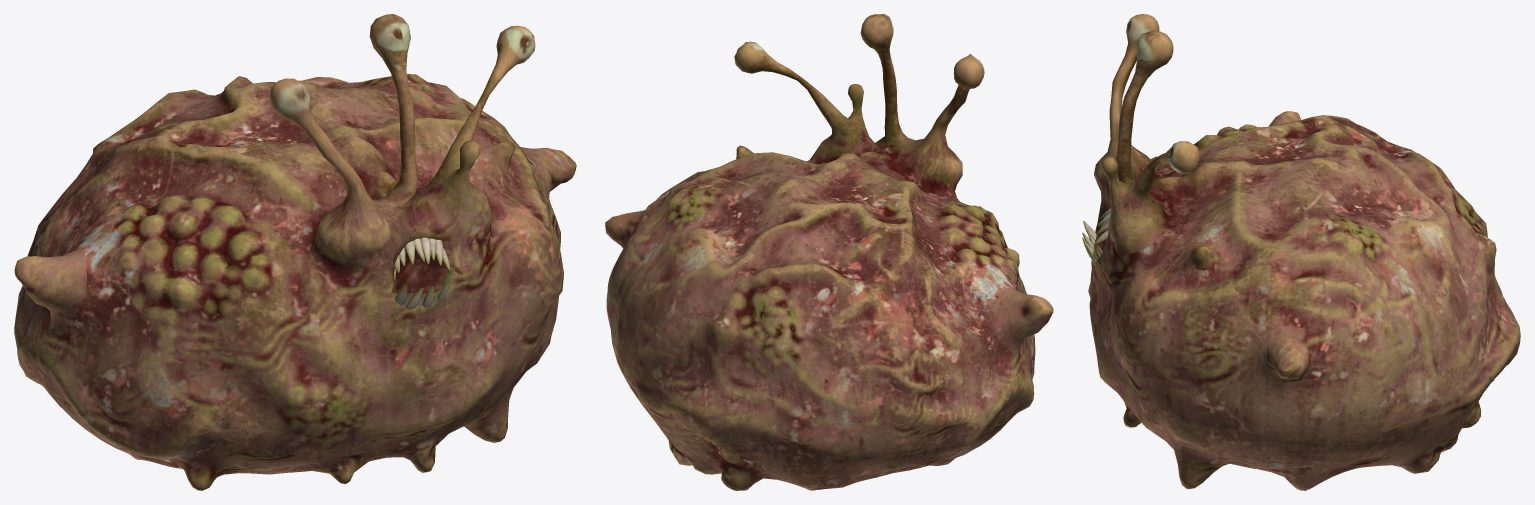
File: Cronen.fbx
The picture shows the model from 3 angles, left to right: view 1: azimuth 30°, elevation 25°; view 2: azimuth 150°, elevation 25°; view 3: azimuth 270°, elevation 25°; orthographic projection. The views are drawn at different scales.
Parts seen in each view (by area): view 1: Retopo_MOUTH_Lips.001, Cube.001; view 2: Retopo_MOUTH_Lips.001; view 3: Retopo_MOUTH_Lips.001, Cube.001.
Boxes of the visible parts, x1,y1,x2,y2 form: Retopo_MOUTH_Lips.001: (14,14,576,490); Cube.001: (394,237,455,309); Retopo_MOUTH_Lips.001: (605,14,1053,490); Retopo_MOUTH_Lips.001: (1088,14,1520,490); Cube.001: (1082,208,1110,265).
Size of the model in its own units: 466 by 375 by 369.
